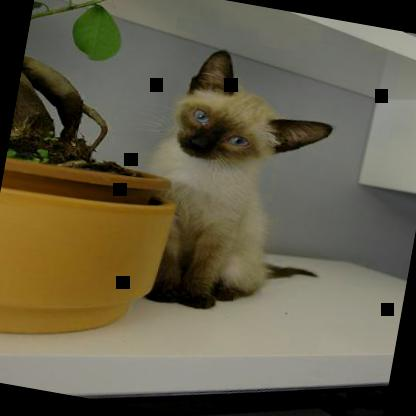cat: (123, 40, 348, 328)
